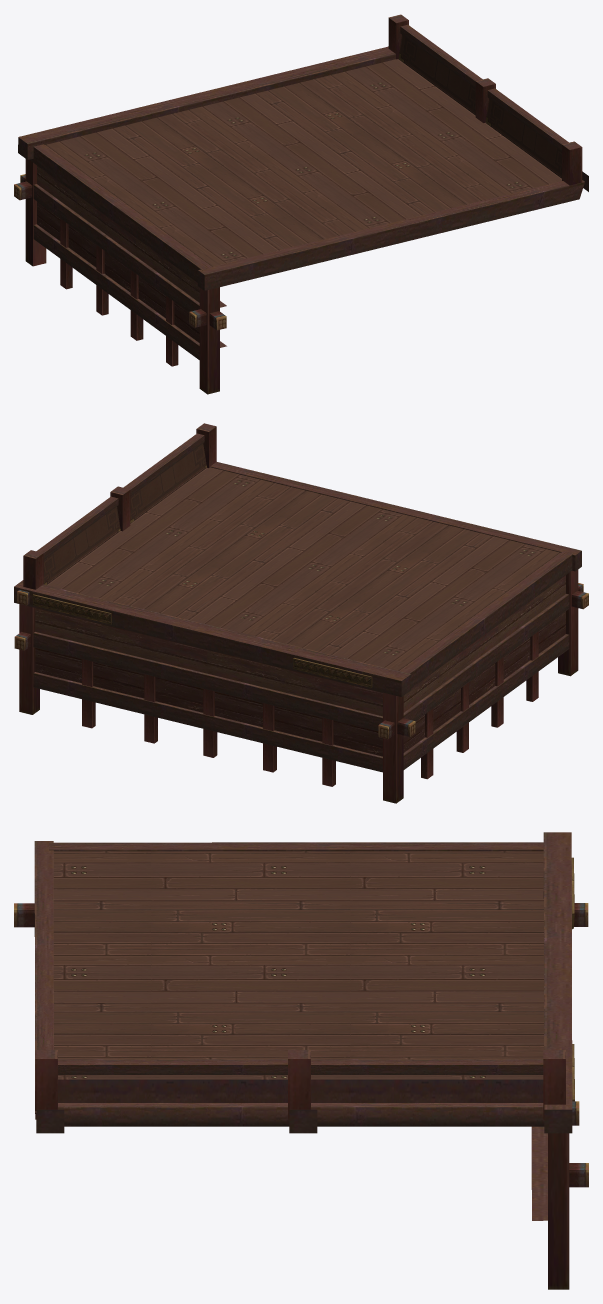
The picture shows the model from 3 angles, top to bottom: view 1: azimuth 30°, elevation 25°; view 2: azimuth 150°, elevation 25°; view 3: azimuth 270°, elevation 25°; orthographic projection. The views are drawn at different scales.
Visible parts, largest first — view 1: polySurface685; view 2: polySurface685; view 3: polySurface685.
Boxes of the visible parts, left/top/right/bottom form: polySurface685: left=14, top=14, right=588, bottom=394; polySurface685: left=14, top=423, right=588, bottom=803; polySurface685: left=14, top=832, right=588, bottom=1289.
Size of the model in its own units: 62.6 by 23.7 by 53.97.
